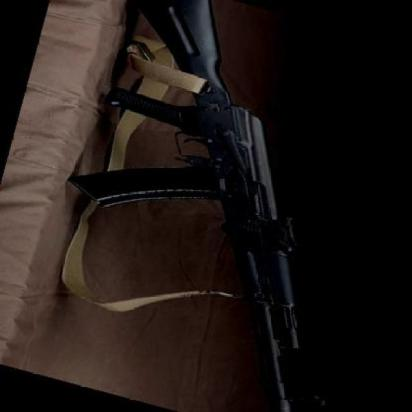Gun: (84, 0, 300, 412)
